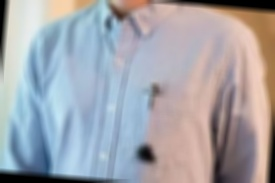ink: (137, 144, 157, 163)
